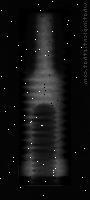Keystone Dental: (19, 9, 71, 185)
